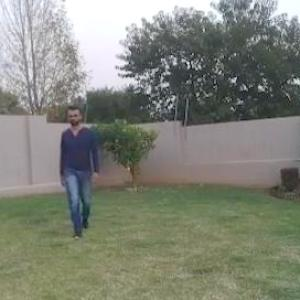follow: (57, 107, 100, 238)
